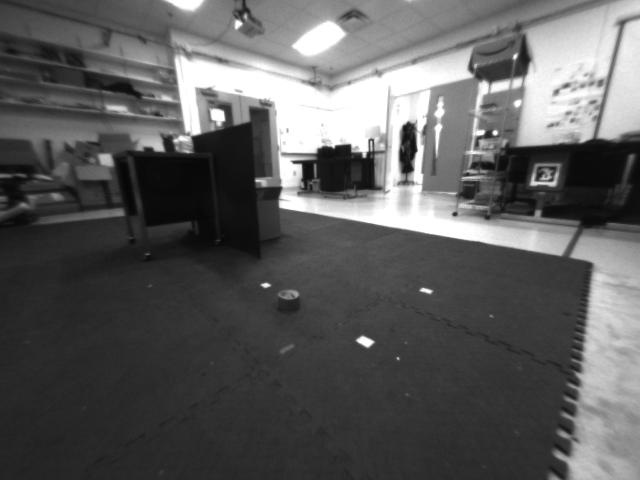dogtoy: (264, 286, 308, 316)
